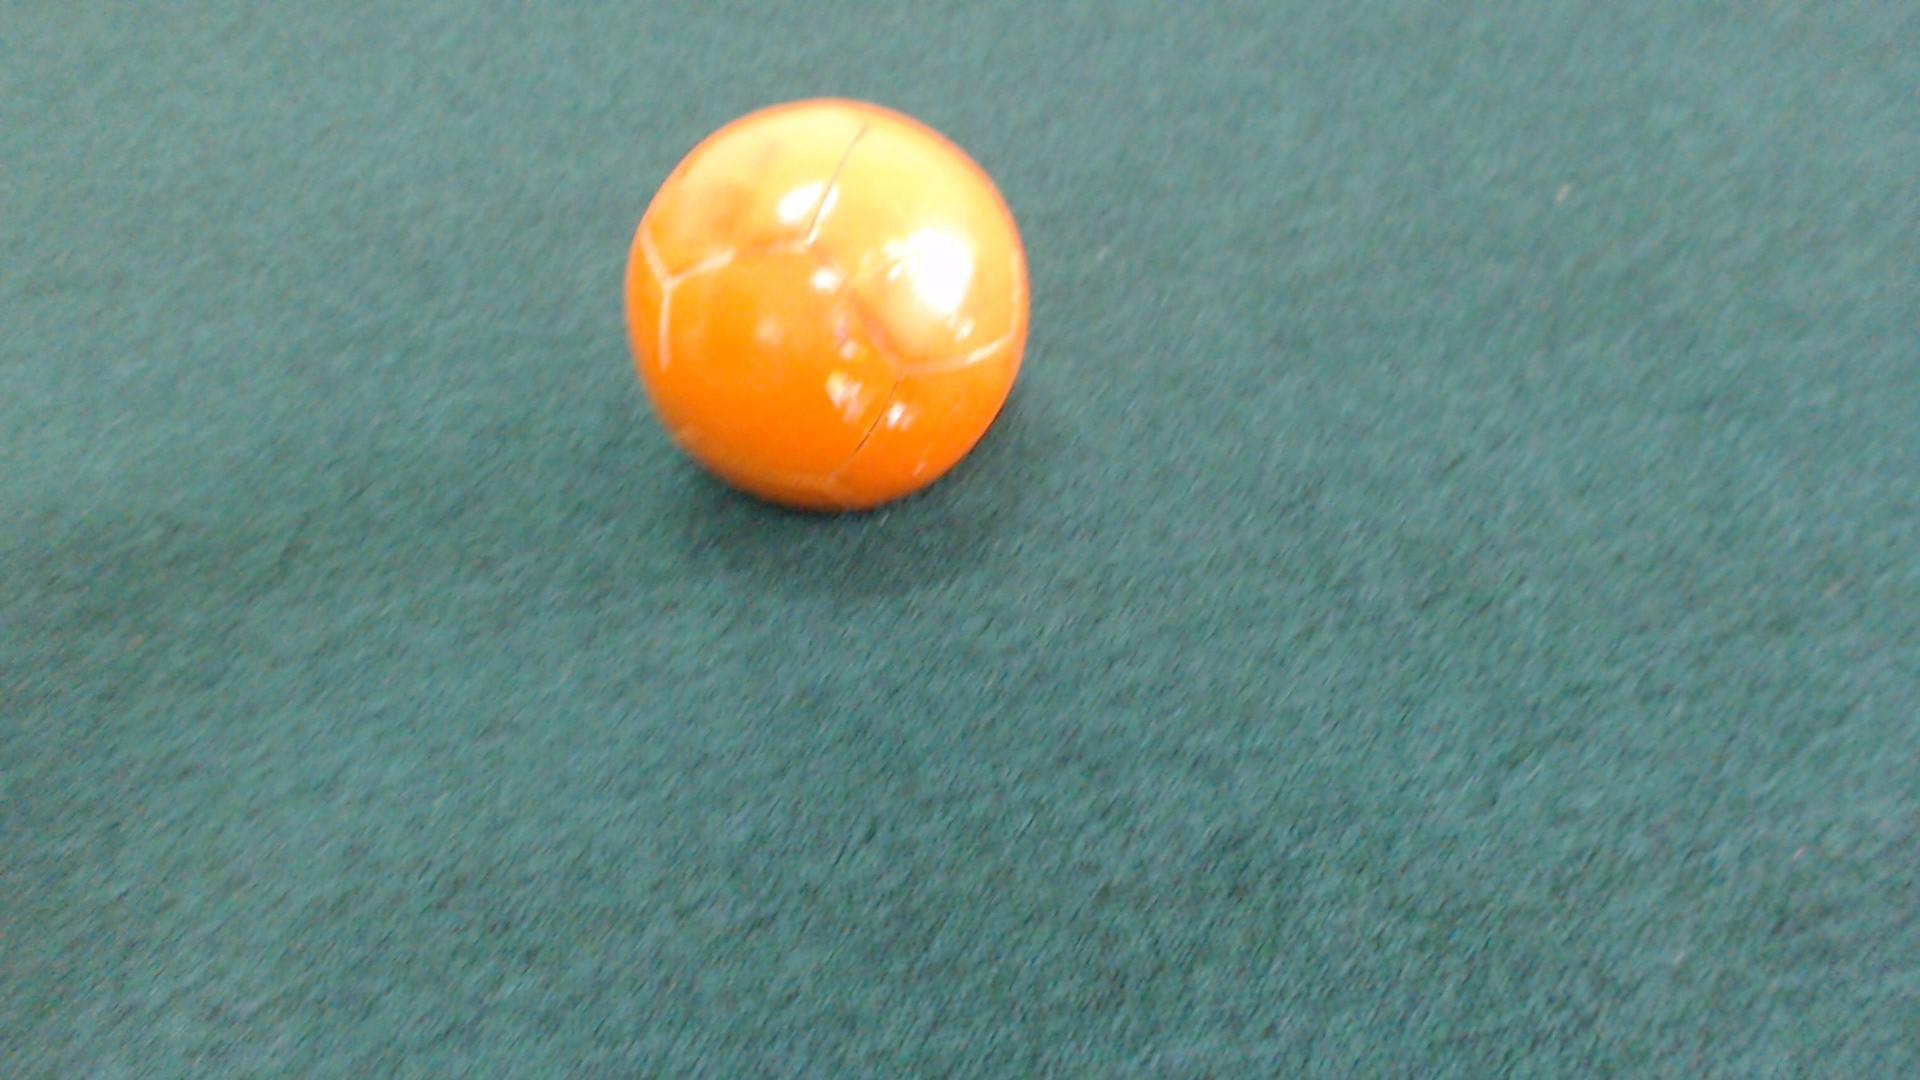bola: (592, 84, 1043, 521)
